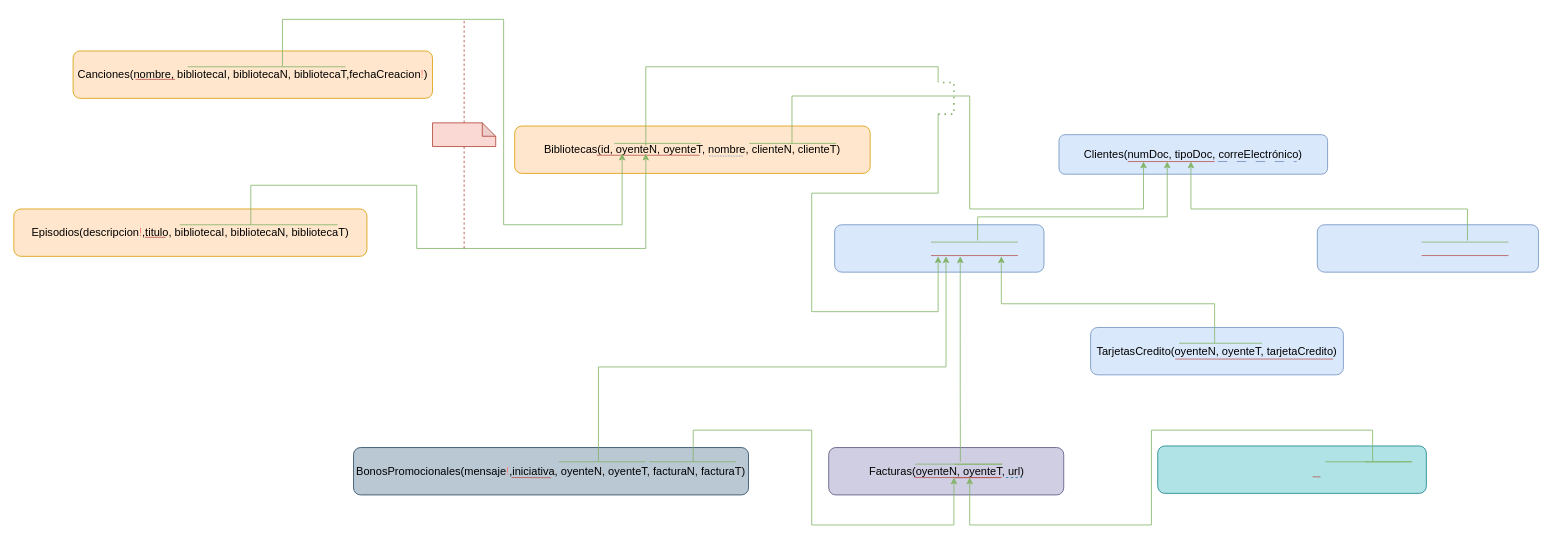
This 1552x545 diagram has some shape labels left out. The shapes that lost their labels are listed below. From the top down, each one's box as (x1, y1, x2, y2) in pixels, then its label:
(432, 122, 496, 147): XOR
(834, 224, 1044, 272): OyentesPagos(clienteN, clienteT)
(1317, 224, 1539, 272): OyentesGratuitos(clienteN, clienteT)
(1157, 445, 1426, 493): NotificacionesIncumplimiento(id, facturaN,facturaT)
